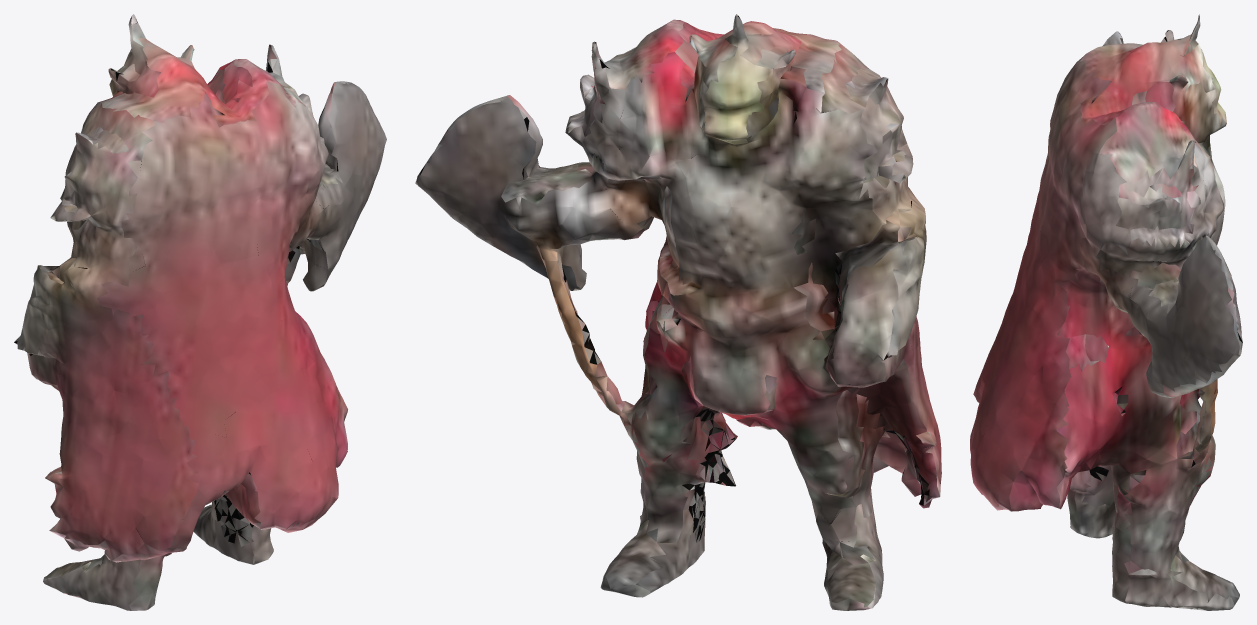
The picture shows the model from 3 angles, left to right: view 1: azimuth 30°, elevation 25°; view 2: azimuth 150°, elevation 25°; view 3: azimuth 270°, elevation 25°; orthographic projection. The views are drawn at different scales.
Parts seen in each view (by area): view 1: world; view 2: world; view 3: world.
Part boxes in pixels (box(x1,y1,x2,y2)): world: box(14, 14, 386, 610); world: box(415, 14, 941, 610); world: box(970, 14, 1242, 610).
Size of the model in its own units: 0.688 by 0.8717 by 0.3958.
Materials: 1 (1 with a texture image).
